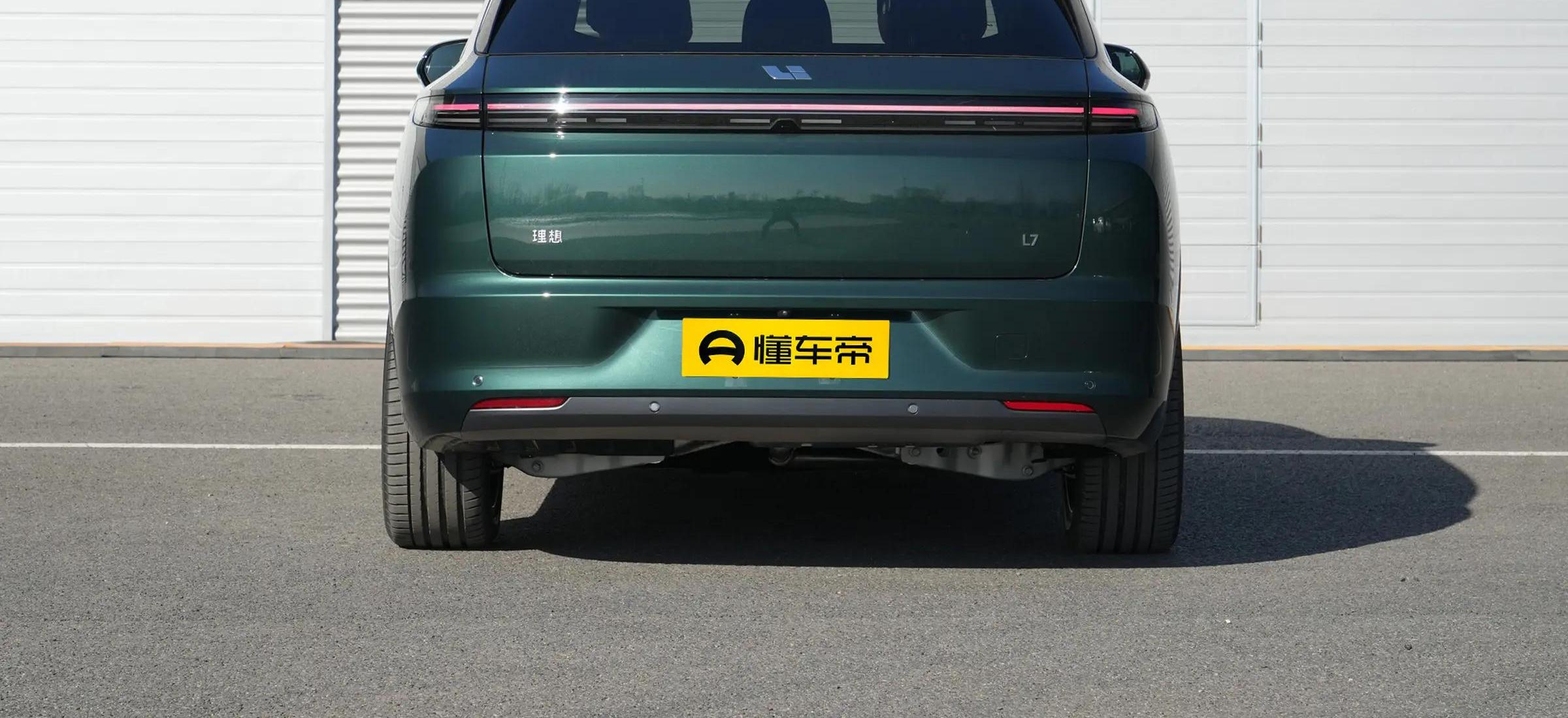Li Auto: (759, 66, 809, 80)
